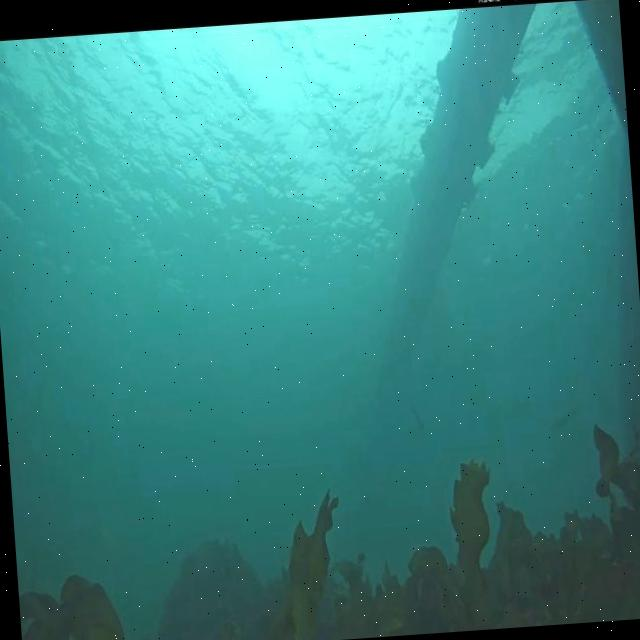fish: (408, 403, 427, 432)
